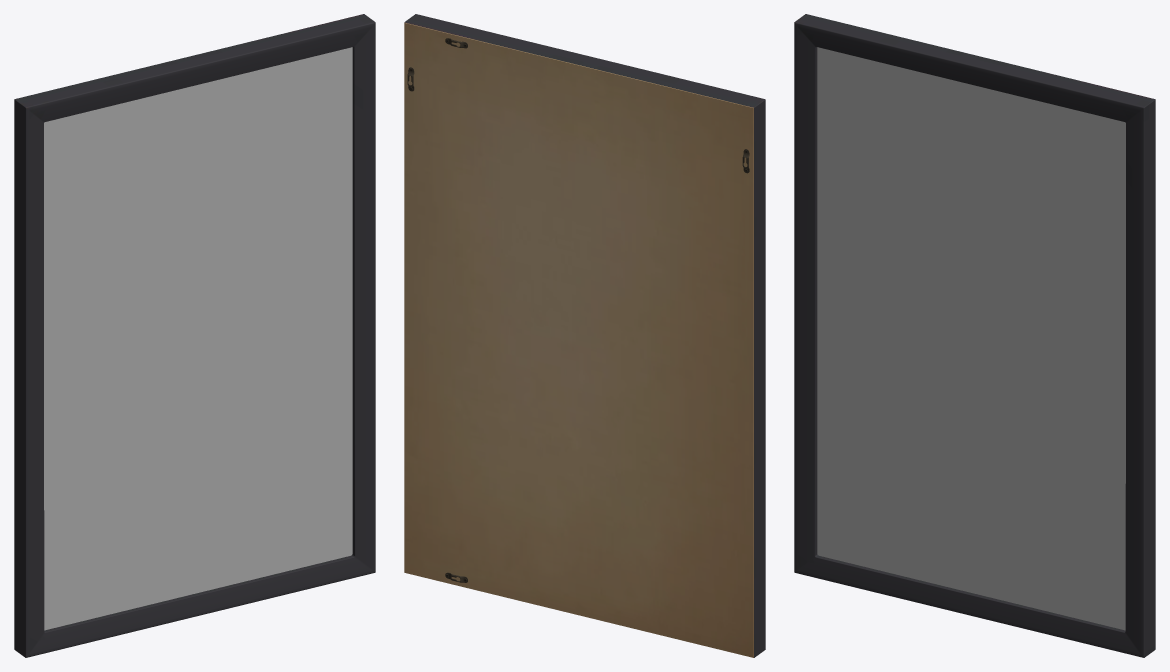
The model's file is abo-B07RNMNGYF.glb.
The picture shows the model from 3 angles, left to right: view 1: azimuth 30°, elevation 25°; view 2: azimuth 150°, elevation 25°; view 3: azimuth 330°, elevation 25°; orthographic projection.
Size of the model in its own units: 0.609 by 0.915 by 0.04.
Materials: 1 (1 with a texture image).
